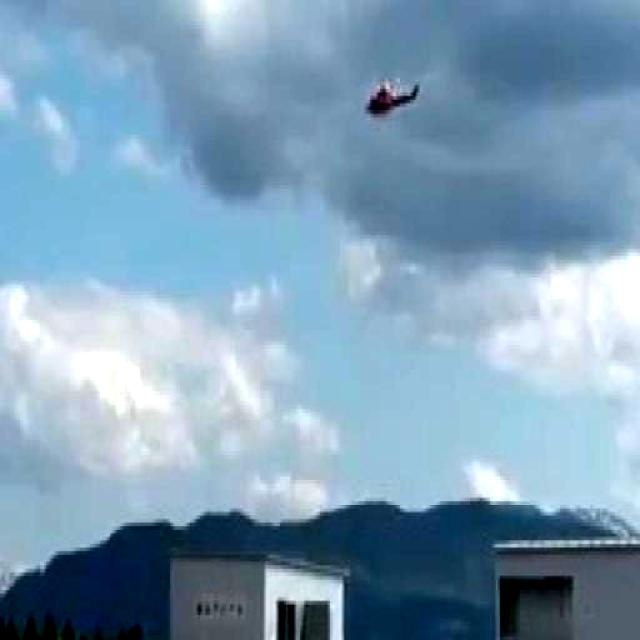drone: (364, 69, 438, 135)
